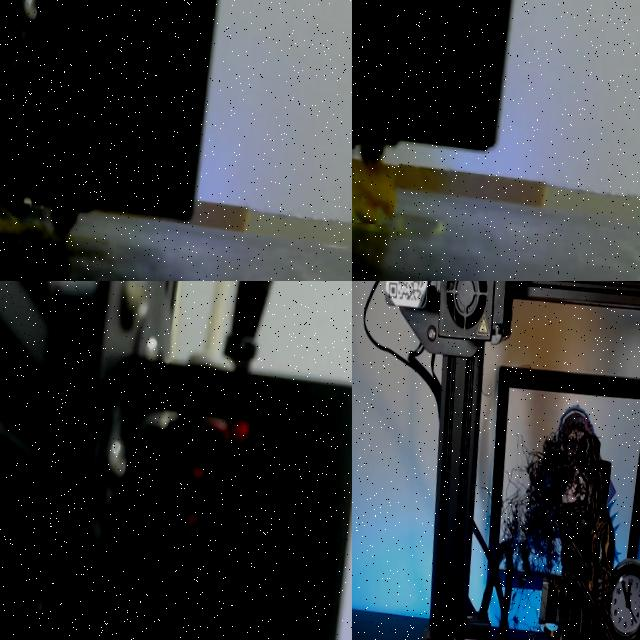spaghetti: (514, 406, 600, 577), (352, 156, 396, 224), (0, 206, 52, 246)
